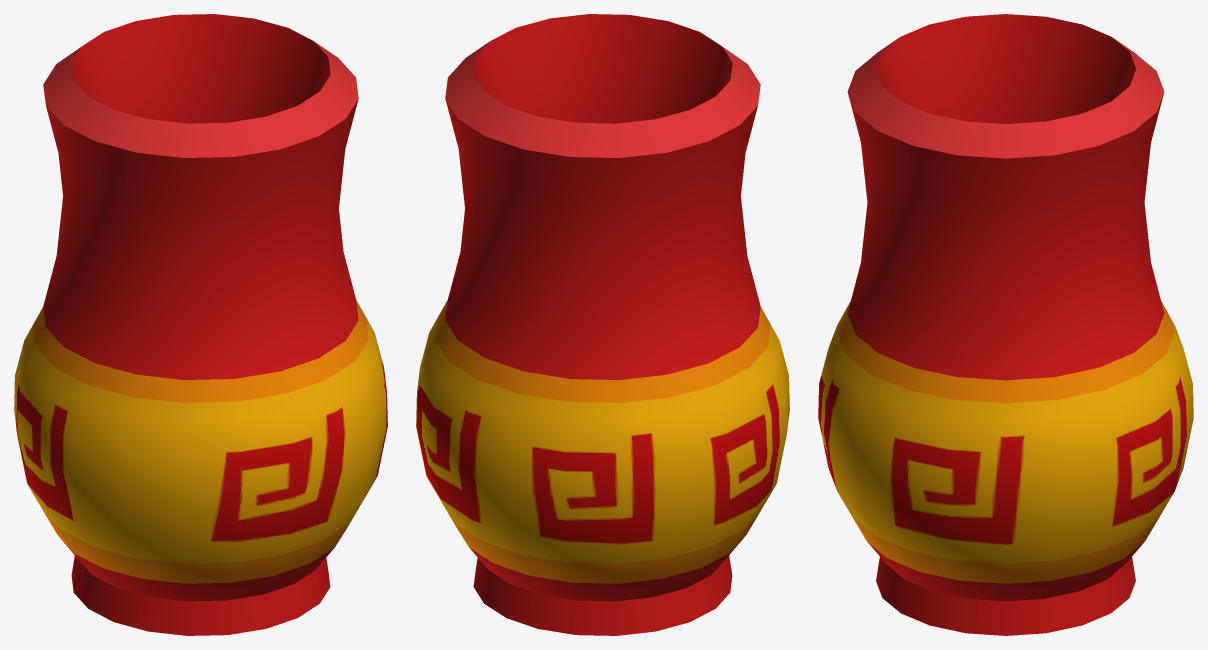
File: Vase01.fbx
3 views of the same model, side by side, from view 1: azimuth 30°, elevation 25°; view 2: azimuth 150°, elevation 25°; view 3: azimuth 270°, elevation 25° (orthographic).
Visible parts, largest first — view 1: Vase01; view 2: Vase01; view 3: Vase01.
Boxes of the visible parts, x1,y1,x2,y2 form: Vase01: [14, 14, 387, 635]; Vase01: [416, 14, 789, 635]; Vase01: [818, 14, 1193, 635].
Bounding box in the file's own units: 231 × 347 × 231.
